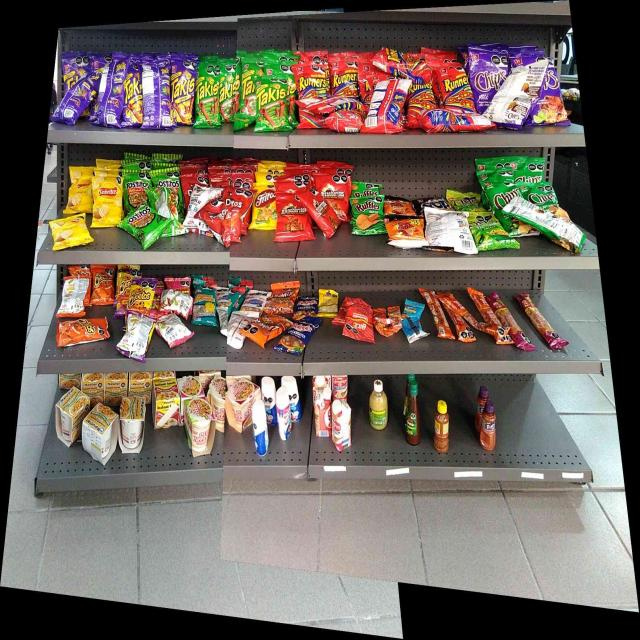bitzAlmendras: (403, 319, 422, 340), (406, 300, 422, 317)
bitzEnchilado90: (346, 303, 372, 342)
bitzEnchilado95: (427, 287, 485, 342)
bitzHabanero: (514, 291, 549, 328), (543, 332, 569, 351), (511, 331, 534, 352), (489, 290, 507, 310)
bokadosCacahuates: (287, 320, 312, 354), (296, 296, 316, 318)
botaneraChilito: (434, 400, 448, 452)
cheetosFlaminHot: (130, 278, 152, 312), (118, 270, 128, 313)
cheetosOriginal: (56, 321, 108, 342), (94, 268, 114, 304)
chipsFuego: (473, 49, 494, 106), (540, 72, 562, 126)
chipsJalapeno: (528, 184, 559, 208), (489, 184, 522, 204), (508, 218, 530, 237)
chipsPapatinas: (475, 213, 499, 249), (453, 190, 481, 209)
delPrimoSalsa: (369, 378, 387, 430)
doritosNacho: (226, 190, 246, 243), (206, 207, 226, 223)
fritosLimon: (254, 182, 274, 230)
hotNutsOriginal: (387, 220, 423, 248), (386, 197, 415, 216)
leoCacahuates: (247, 290, 265, 312), (217, 287, 228, 306)
leoMix: (253, 316, 280, 339), (272, 284, 293, 313)
maruchanPollo: (82, 404, 119, 462), (121, 396, 144, 454), (56, 390, 81, 440)
maruchanRes: (154, 378, 178, 427)
nestleCarnation: (333, 402, 351, 448), (315, 391, 331, 437), (332, 373, 347, 399)
nestleLechera: (252, 404, 265, 456), (278, 390, 290, 439), (267, 378, 277, 424), (292, 392, 300, 422)
nissinCamaron: (184, 399, 210, 454)
nissinRes: (227, 381, 250, 433)
popKarameladas: (422, 197, 448, 208)
productoAtras: (426, 211, 467, 252), (144, 61, 169, 128), (504, 70, 530, 130), (372, 79, 400, 134), (102, 64, 121, 126), (420, 112, 484, 130), (58, 87, 86, 124), (126, 315, 148, 357), (532, 210, 573, 232), (64, 277, 84, 316), (308, 100, 362, 114), (159, 317, 185, 344), (375, 307, 399, 335), (158, 189, 179, 218), (229, 314, 245, 348), (162, 295, 190, 314), (192, 187, 211, 205)
rancheritos: (276, 197, 306, 240), (316, 176, 349, 198), (309, 199, 329, 221)
rufflesQueso: (353, 200, 383, 235), (352, 182, 378, 197)
runners: (379, 50, 424, 76), (441, 67, 470, 107), (330, 61, 358, 95), (298, 65, 327, 97), (409, 83, 435, 110)
sabritasOriginal: (94, 177, 120, 227), (54, 216, 86, 247), (70, 167, 92, 211)
salsaBufalo: (407, 383, 419, 442)
semillasCalabaza: (319, 289, 338, 316)
semillasGirasol: (194, 291, 214, 325), (230, 286, 244, 309)
tajinDulce: (482, 404, 496, 451)
takisFuego: (172, 62, 193, 124), (125, 74, 142, 124), (63, 56, 83, 83)
takisOriginal: (256, 78, 286, 131), (196, 68, 218, 129), (220, 66, 238, 120), (242, 62, 254, 116), (287, 78, 296, 124)
tostitos: (127, 206, 156, 236), (124, 170, 148, 203), (154, 170, 180, 187)
